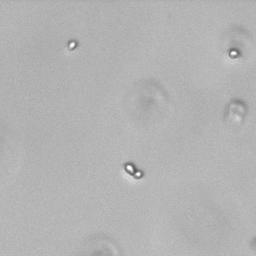budding: (122, 160, 148, 181)
individual: (65, 39, 78, 52), (228, 48, 241, 59)
